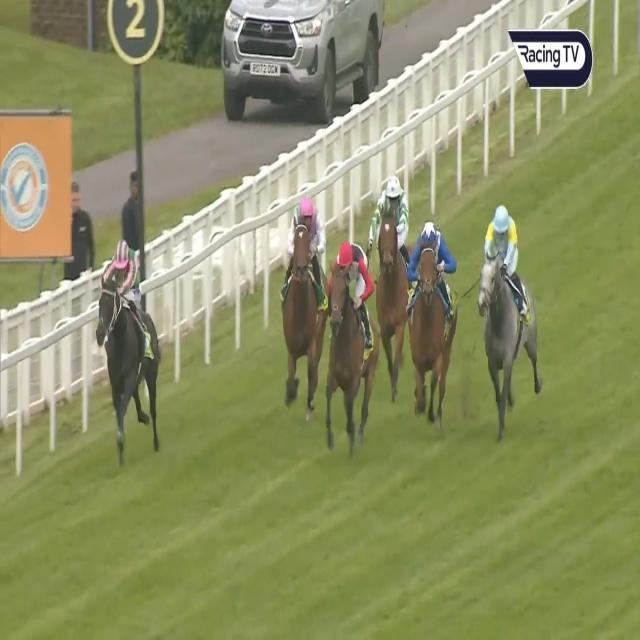horses-racing: (479, 206, 545, 420), (93, 240, 163, 440), (365, 174, 420, 383), (325, 237, 379, 438), (280, 198, 328, 400), (410, 217, 452, 410)
